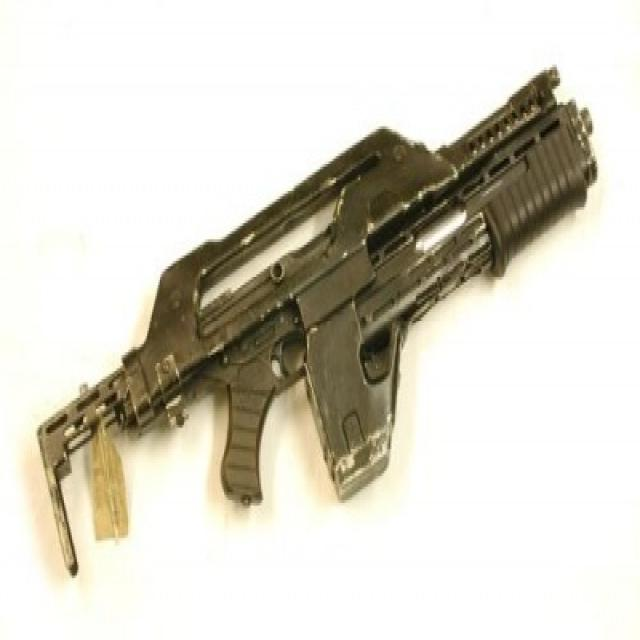rifle: (35, 49, 603, 593)
